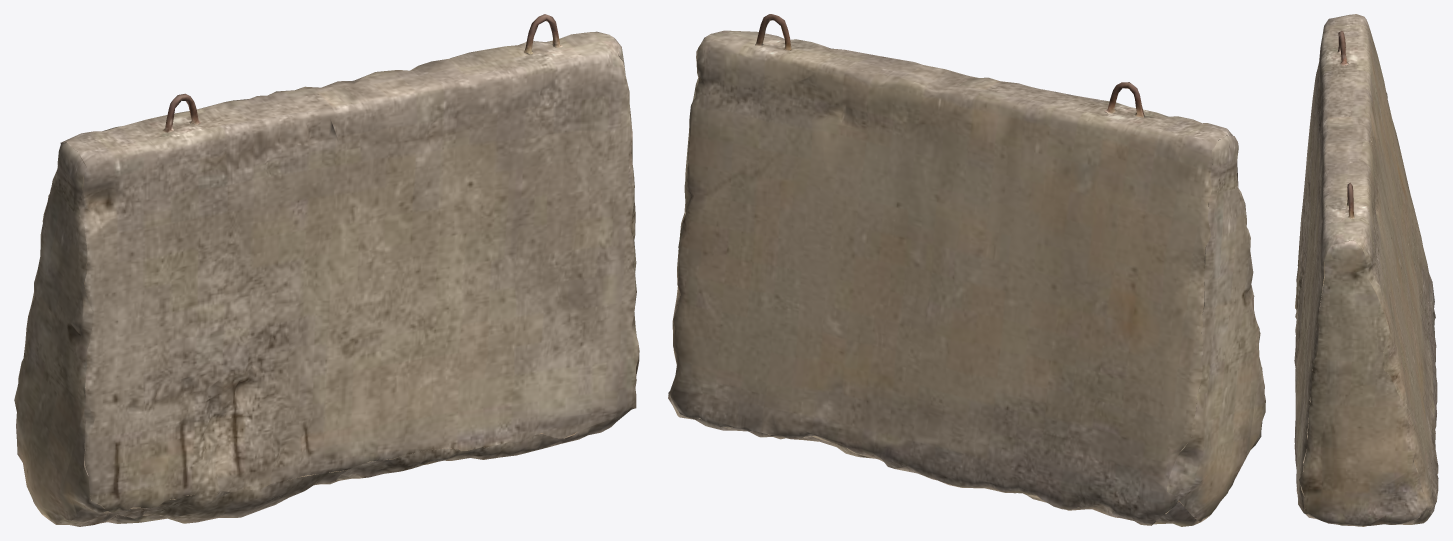
The model's file is RoadBarrier.glb.
3 views of the same model, side by side, from view 1: azimuth 30°, elevation 25°; view 2: azimuth 150°, elevation 25°; view 3: azimuth 270°, elevation 25° (orthographic). The views are drawn at different scales.
Visible parts, largest first — view 1: concrete_road_barrier_02; view 2: concrete_road_barrier_02; view 3: concrete_road_barrier_02.
Part boxes in pixels (<box>): concrete_road_barrier_02: <box>14,14,639,526</box>; concrete_road_barrier_02: <box>668,14,1265,526</box>; concrete_road_barrier_02: <box>1294,14,1438,526</box>.
Bounding box in the file's own units: 1.56 × 1.11 × 0.438.
Materials: 1 (1 with a texture image).
